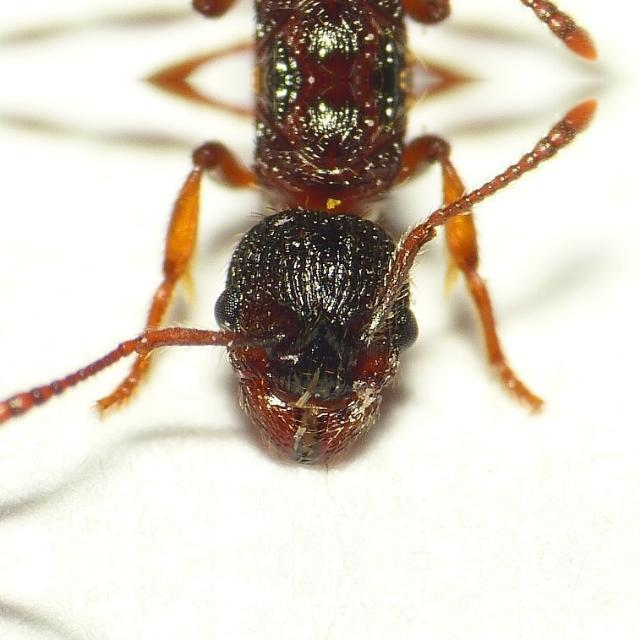Myrmica: (50, 79, 556, 501)
